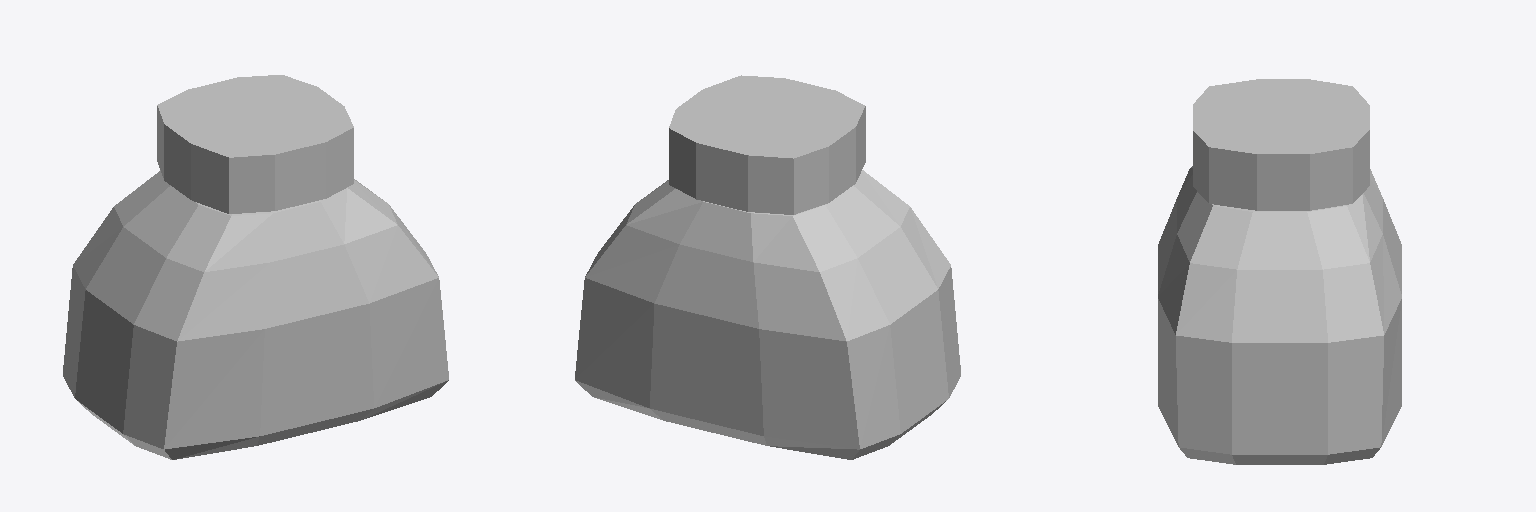
The model's file is ink.obj.
3 views of the same model, side by side, from view 1: azimuth 30°, elevation 25°; view 2: azimuth 150°, elevation 25°; view 3: azimuth 270°, elevation 25° (orthographic).
Visible parts, largest first — view 1: ink_bottle ink, ink ink_cover; view 2: ink_bottle ink, ink ink_cover; view 3: ink_bottle ink, ink ink_cover.
Boxes of the visible parts, x1,y1,x2,y2 form: ink_bottle ink: [63, 170, 448, 459]; ink ink_cover: [157, 75, 353, 213]; ink_bottle ink: [575, 170, 960, 459]; ink ink_cover: [669, 75, 865, 214]; ink_bottle ink: [1158, 166, 1401, 464]; ink ink_cover: [1193, 79, 1369, 210].
Bounding box in the file's own units: 0.3583 × 0.3038 × 0.2419.